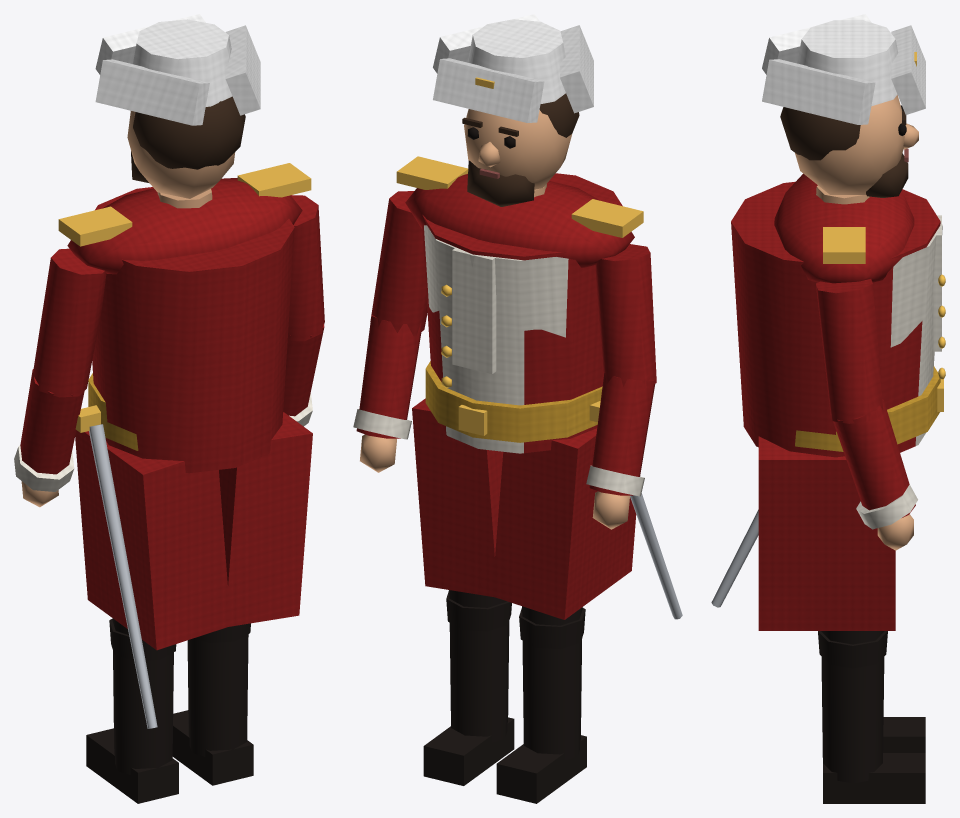
The model's file is captain.glb.
3 renders of one model, left to right at view 1: azimuth 30°, elevation 25°; view 2: azimuth 150°, elevation 25°; view 3: azimuth 270°, elevation 25°, orthographic. The views are drawn at different scales.
Visible parts, largest first — view 1: Body, Head, ShinL, ShinR, ArmL, ForearmL, ArmR, ForearmR; view 2: Body, Head, ShinR, ShinL, ArmL, ForearmL, ForearmR, ArmR; view 3: Body, Head, ShinR, ArmR, ForearmR, ShinL.
Part boxes in pixels (left/top/right/bottom): Body: left=58, top=163, right=312, bottom=728; Head: left=95, top=14, right=260, bottom=198; ShinL: left=86, top=618, right=178, bottom=803; ShinR: left=172, top=623, right=253, bottom=785; ArmL: left=31, top=248, right=106, bottom=397; ForearmL: left=14, top=369, right=85, bottom=507; ArmR: left=287, top=195, right=324, bottom=341; ForearmR: left=283, top=324, right=324, bottom=426; Body: left=396, top=156, right=682, bottom=619; Head: left=433, top=14, right=593, bottom=206; ShinR: left=423, top=590, right=514, bottom=785; ShinL: left=496, top=606, right=586, bottom=803; ArmL: left=595, top=244, right=656, bottom=388; ForearmL: left=586, top=372, right=655, bottom=529; ForearmR: left=353, top=315, right=421, bottom=472; ArmR: left=370, top=191, right=427, bottom=336; Body: left=711, top=173, right=945, bottom=630; Head: left=762, top=14, right=925, bottom=197; ShinR: left=818, top=631, right=925, bottom=803; ArmR: left=816, top=279, right=883, bottom=423; ForearmR: left=830, top=399, right=917, bottom=550; ShinL: left=883, top=717, right=925, bottom=752.
Size of the model in its own units: 0.78 by 1.9 by 0.5473.
12 materials, 5 textured.
